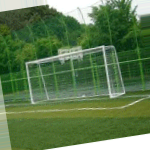goals: (23, 44, 129, 105)
